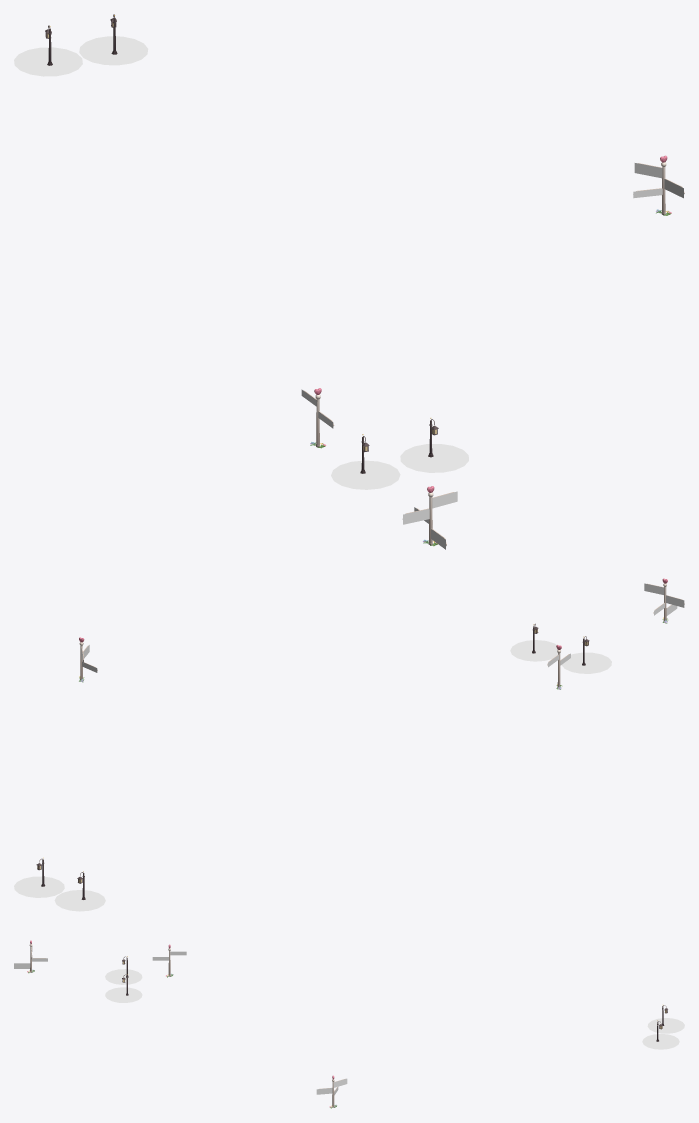
File: zon_paths.glb
3 renders of one model, top to bottom at view 1: azimuth 30°, elevation 25°; view 2: azimuth 150°, elevation 25°; view 3: azimuth 270°, elevation 25°, orthographic. The views are drawn at different scales.
Visible parts, largest first — view 1: SM_paths_paths_pool_x0_zm1, SM_paths_veg_vc_x0_zm1; view 2: SM_paths_paths_pool_x0_zm1, SM_paths_veg_vc_x0_zm1; view 3: SM_paths_paths_pool_x0_zm1, SM_paths_veg_vc_x0_zm1.
Part boxes in pixels (box(x1,y1,x2,y2)): SM_paths_paths_pool_x0_zm1: box(14, 36, 468, 489); SM_paths_veg_vc_x0_zm1: box(45, 14, 684, 545); SM_paths_paths_pool_x0_zm1: box(14, 640, 611, 911); SM_paths_veg_vc_x0_zm1: box(36, 578, 684, 899); SM_paths_paths_pool_x0_zm1: box(105, 969, 684, 1049); SM_paths_veg_vc_x0_zm1: box(29, 940, 667, 1107).
Size of the model in its own units: 28.95 by 2.93 by 57.08.
